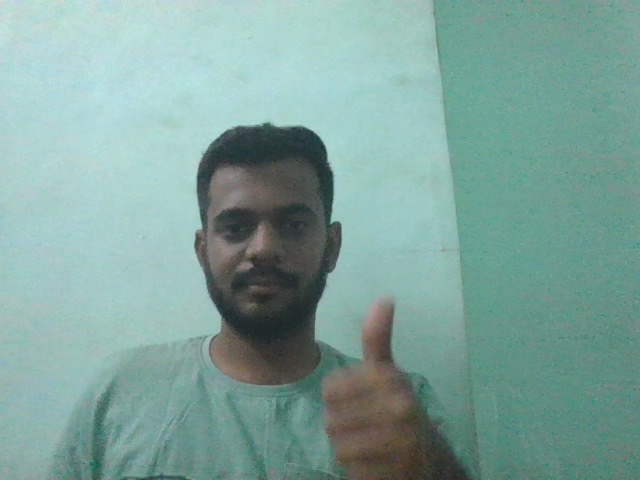yes: (319, 298, 458, 472)
